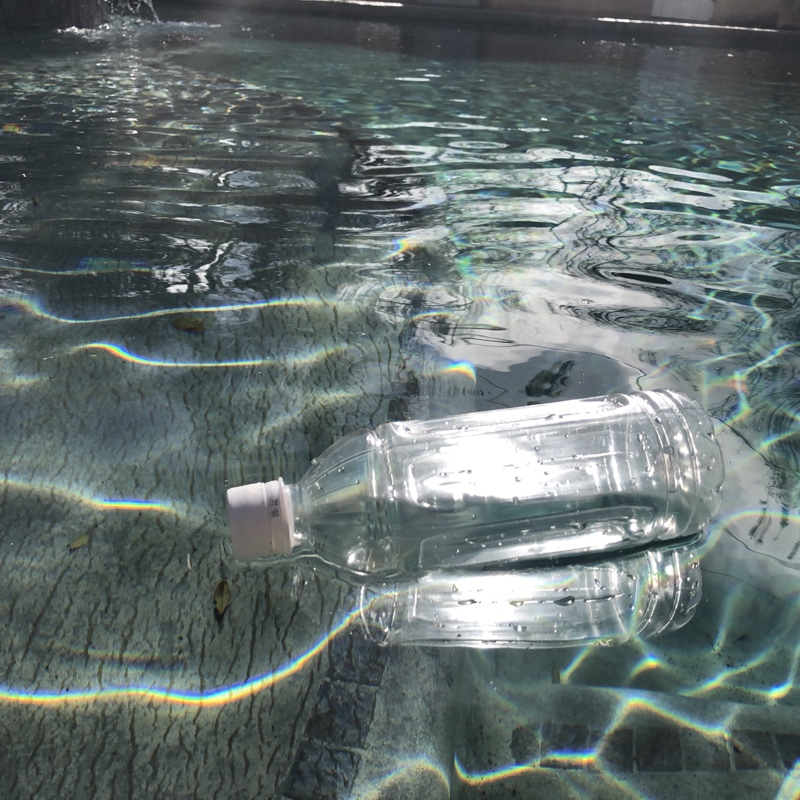Plastic Bottle: (211, 387, 740, 578)
